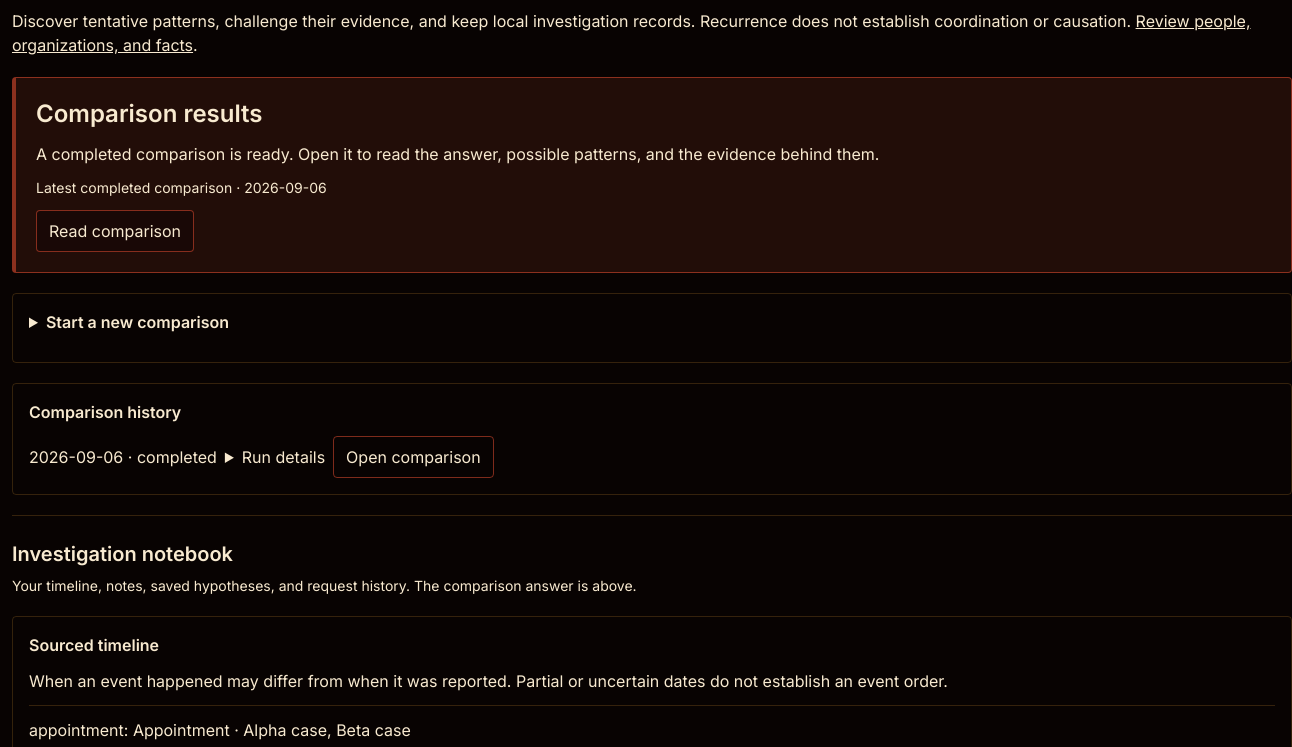
Scenario: Investigation workspace › marks corrected analysis stale and prevents saving it as current
Click the button "Read comparison": (115,231) [36,210,194,252]
(page scrolled)
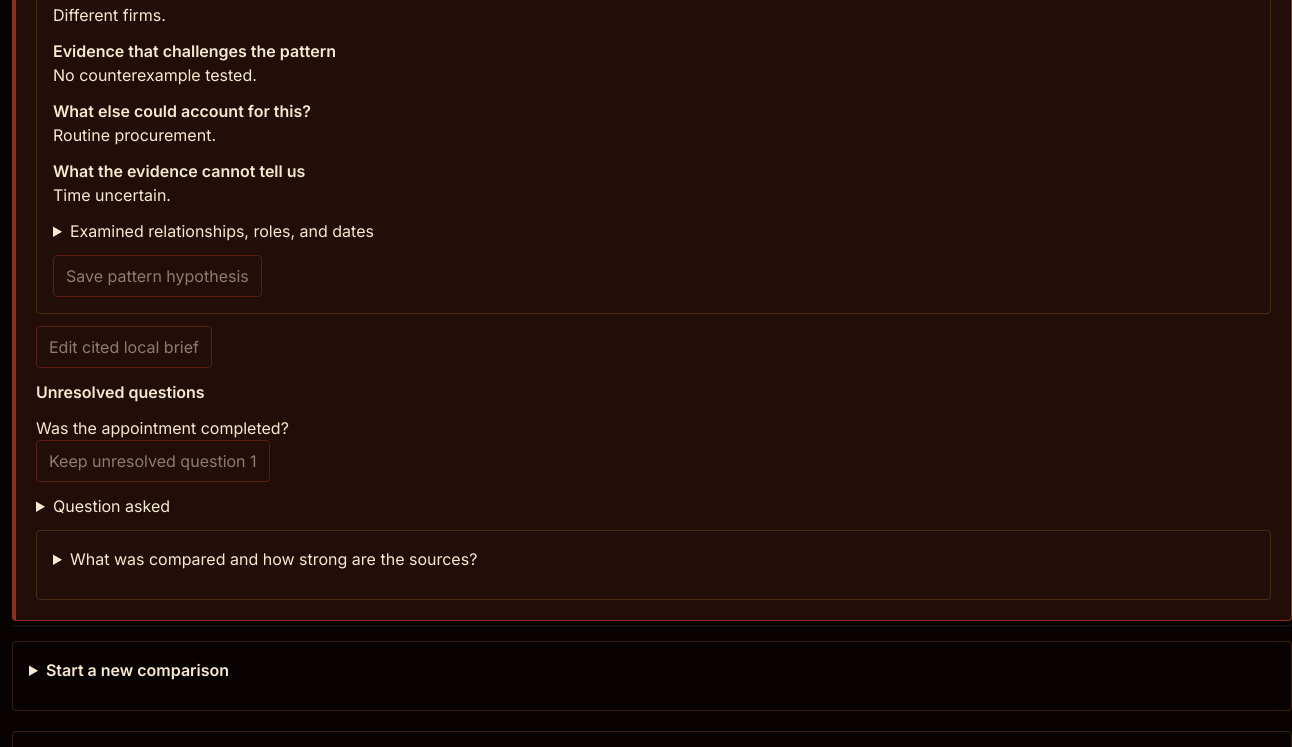
Now the button "Save pattern hypothesis" is disabled, box [53,255,262,297]
Now the button "Edit cited local brief" is disabled, box [36,326,212,368]
